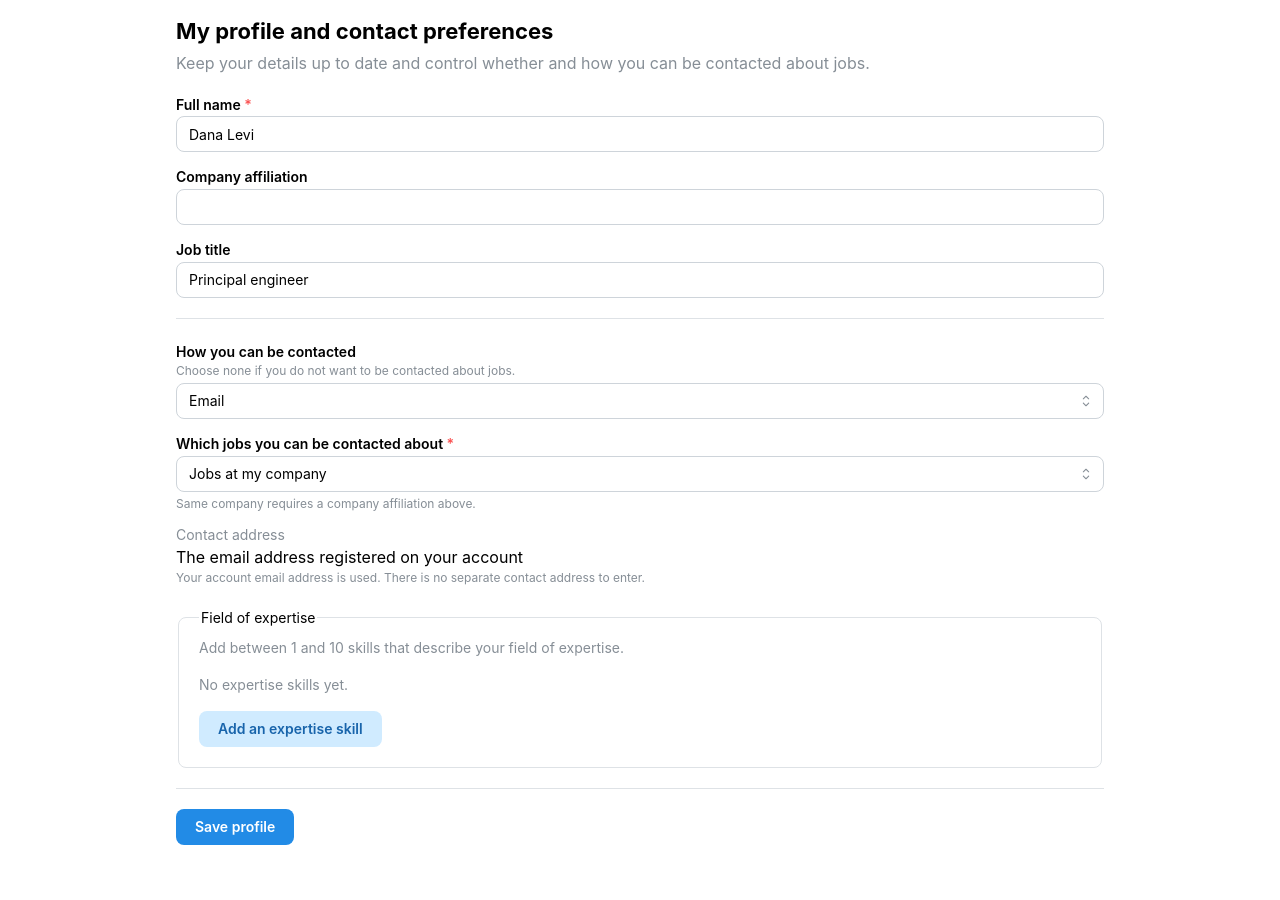
Test case: the scope SameCompany (Req 10 AC6) › reports the missing company affiliation before any request is issued
What coordinates should you click on to do the following:
click the button with test id "senior-profile-save"
I would click on:
 (235, 827)
Its box is [176,809,294,845].
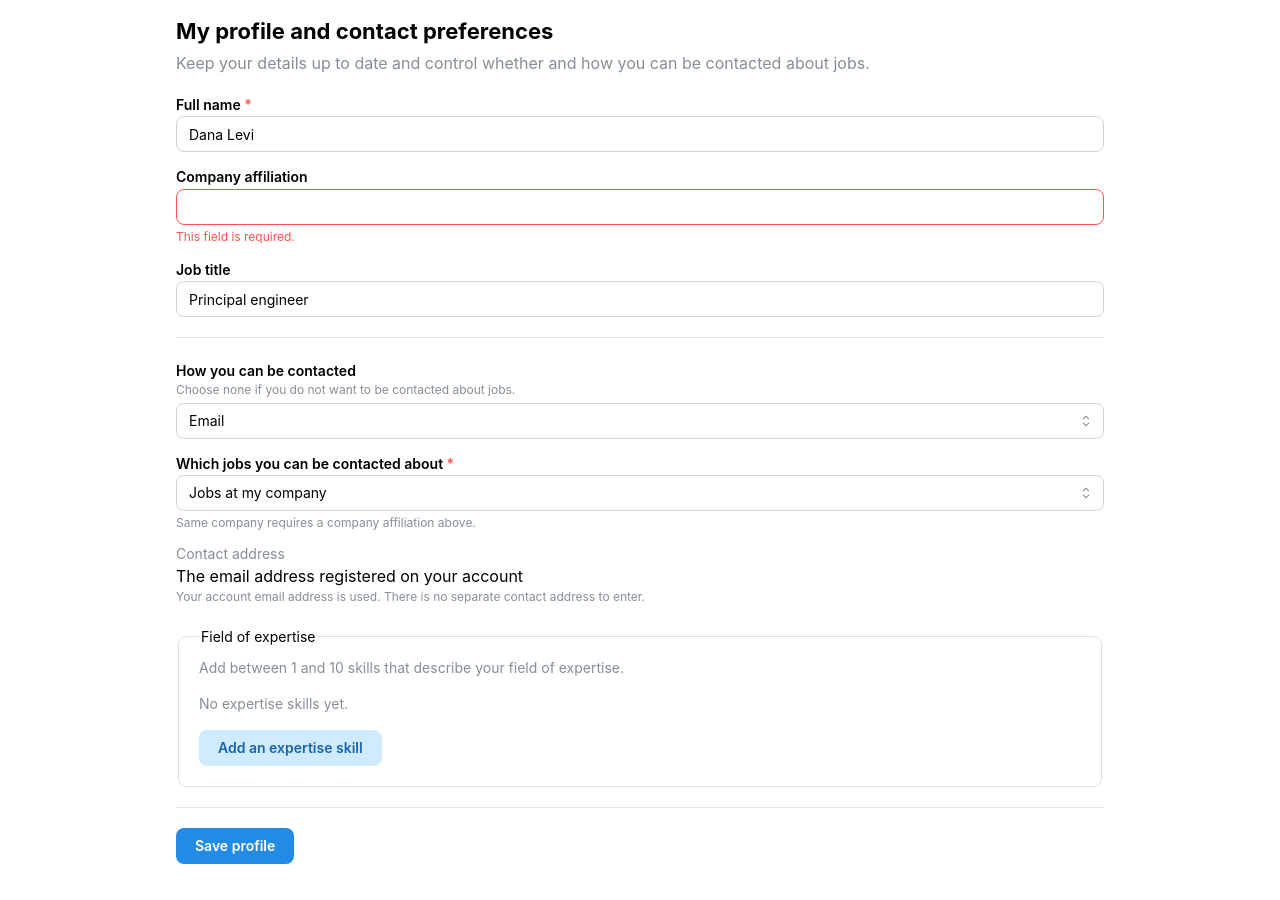
Check: the text with test id "company_affiliation-violation" reads "This field is required.", box [176,229,295,244]
